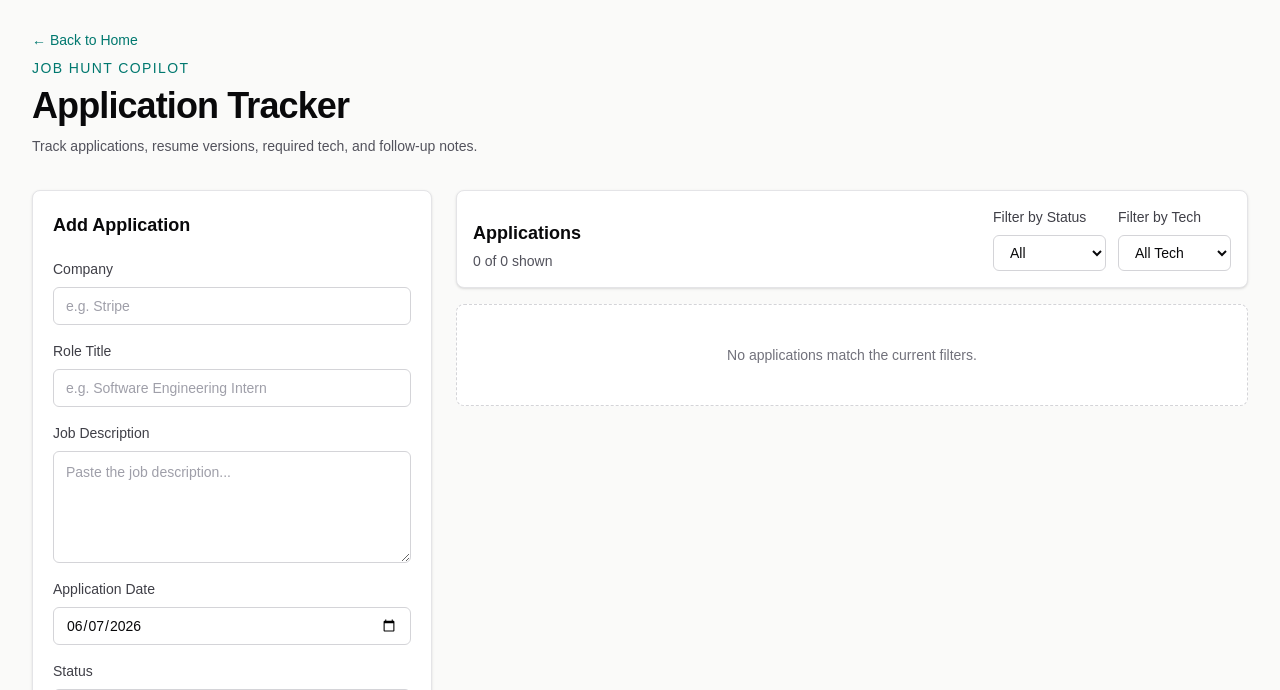
Test case: Application Tracker › creates an application
This screenshot has width=1280, height=690.
Expected: the text "0 of 0 shown" is shown, [473,253,552,269]
Type "OpenAI" into the field labelled "Company" at (232, 306), box [53,287,411,325]
Type "Software Engineering Intern" into the field labelled "Role Title" at (232, 388), box [53,369,411,407]
(page scrolled)
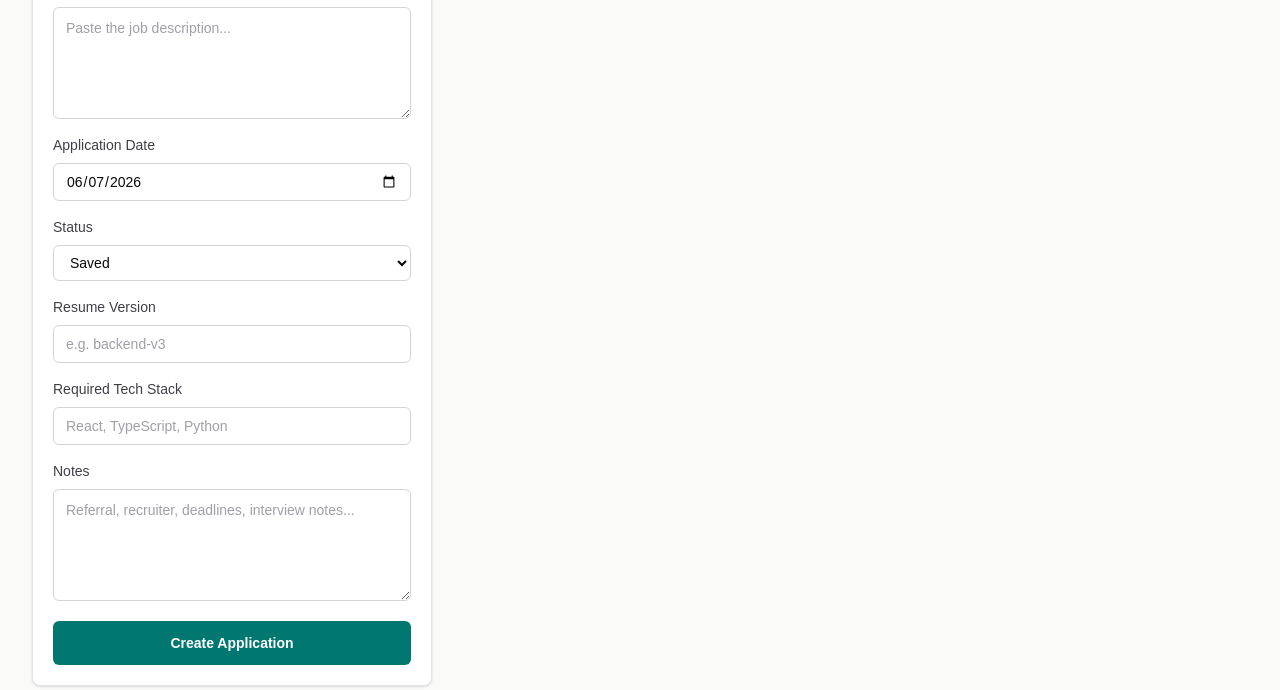
Type "React, TypeScript" into the field labelled "Required Tech Stack" at (232, 426), box [53,407,411,445]
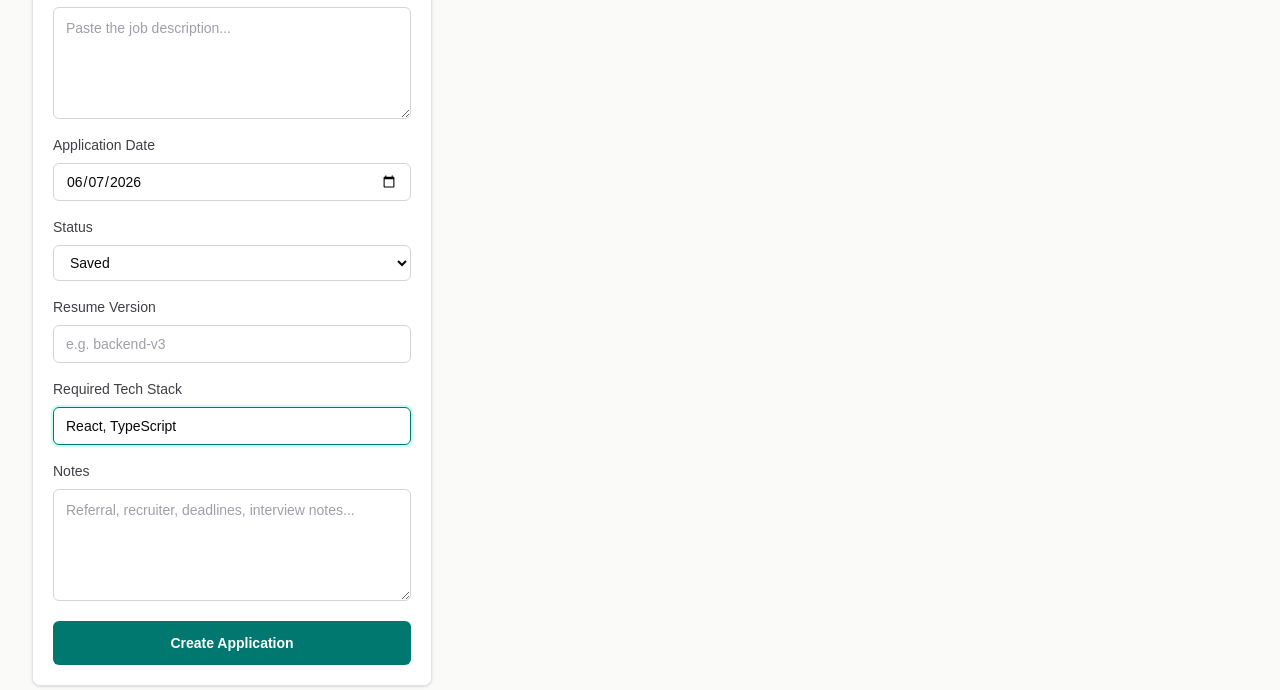
Select "Applied" in the dropdown labelled "Status" at (232, 263), box [53,245,411,281]
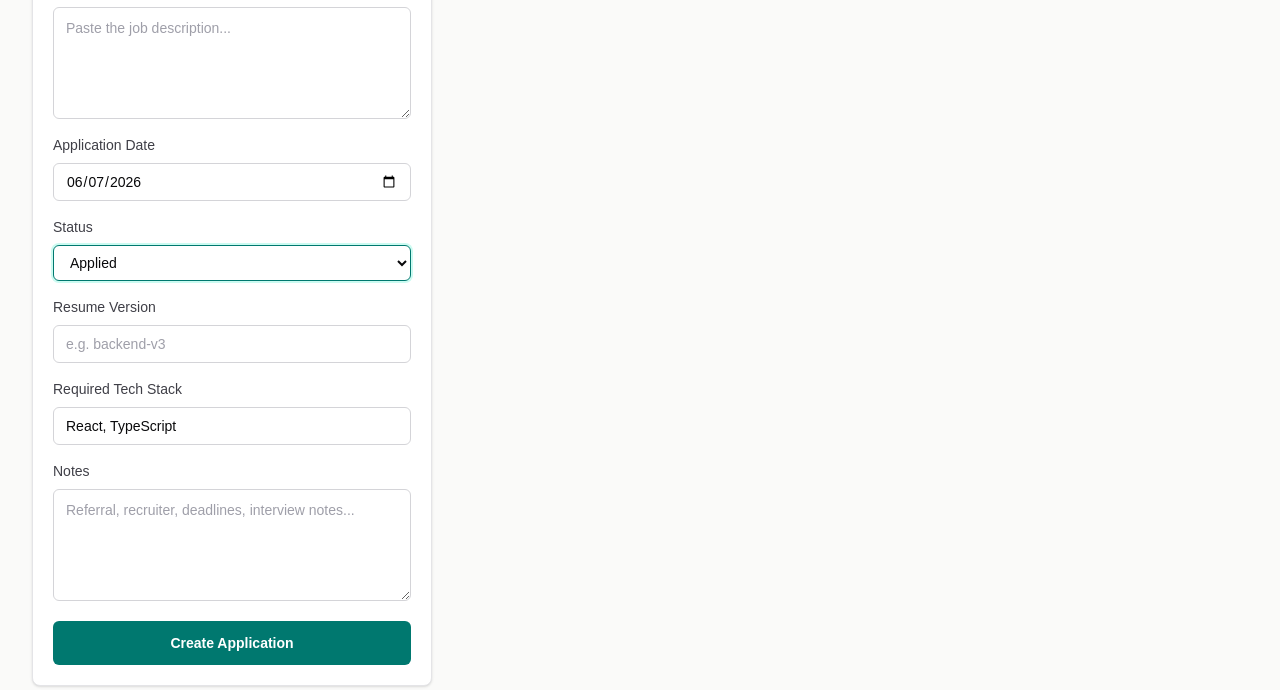
Type "software-v1" into the field labelled "Resume Version" at (232, 344), box [53,325,411,363]
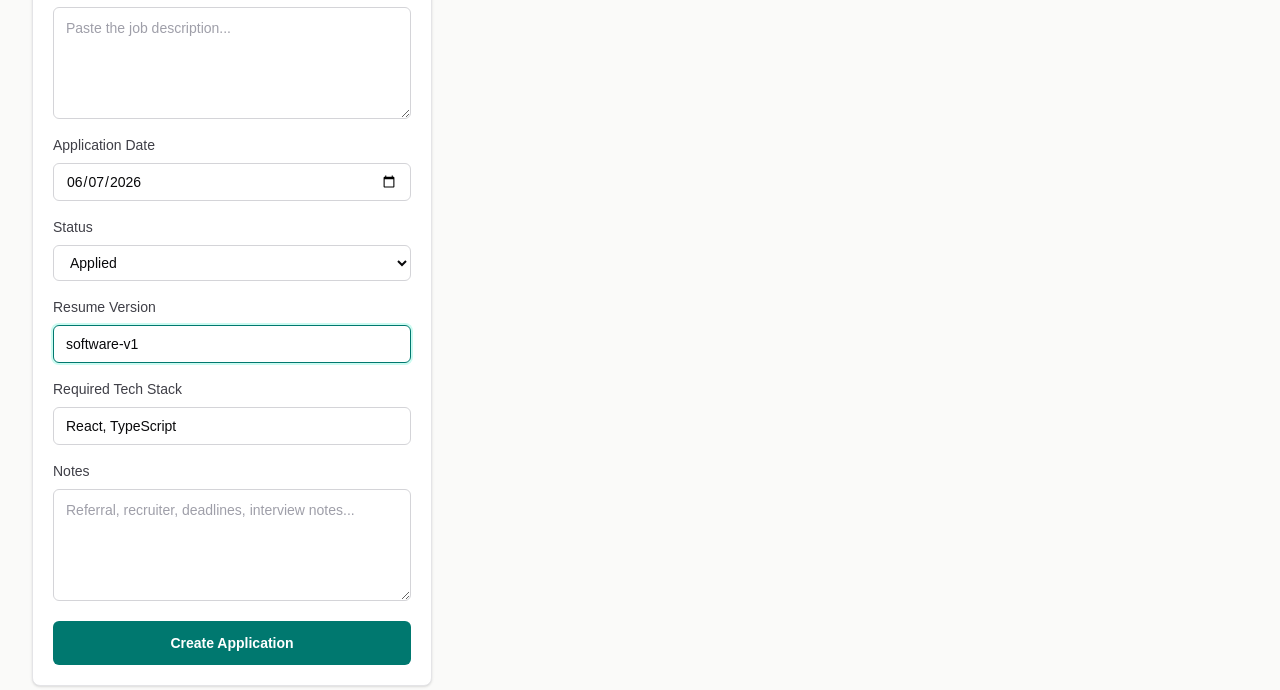
Type "Applied through company website." into the text box labelled "Notes" at (232, 545), box [53,489,411,601]
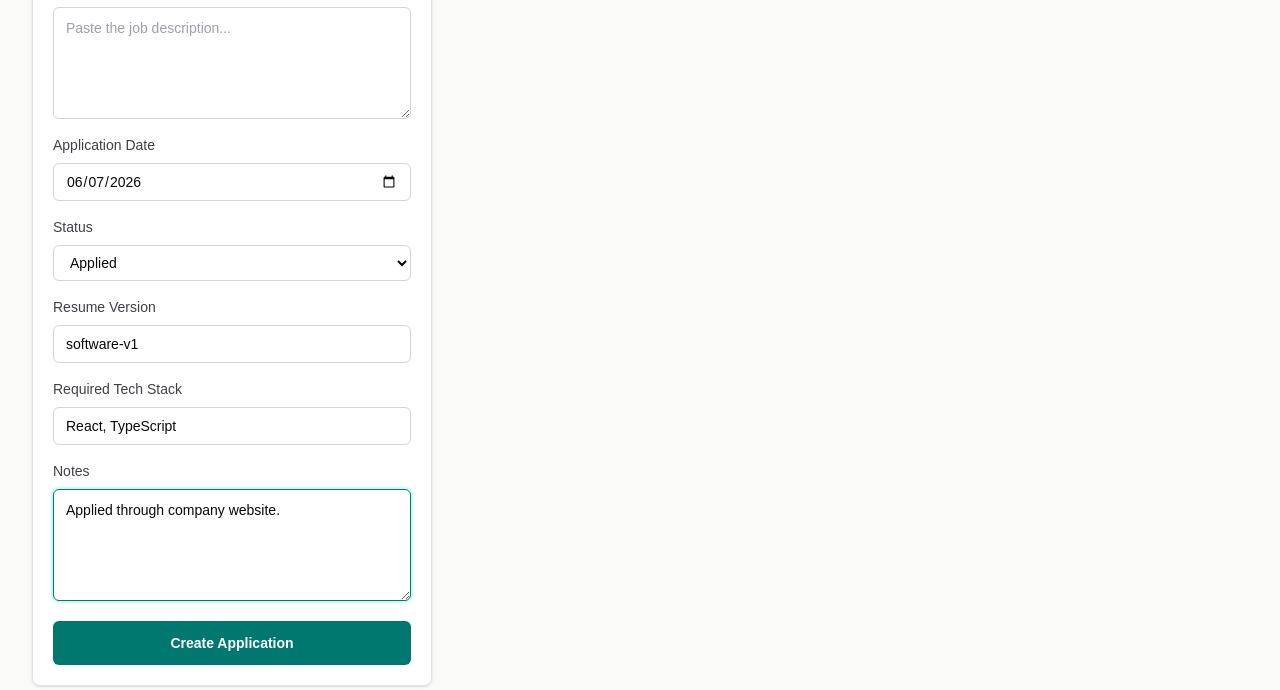
Click the button "Create Application" at (232, 643), box [53,621,411,665]
(page scrolled)
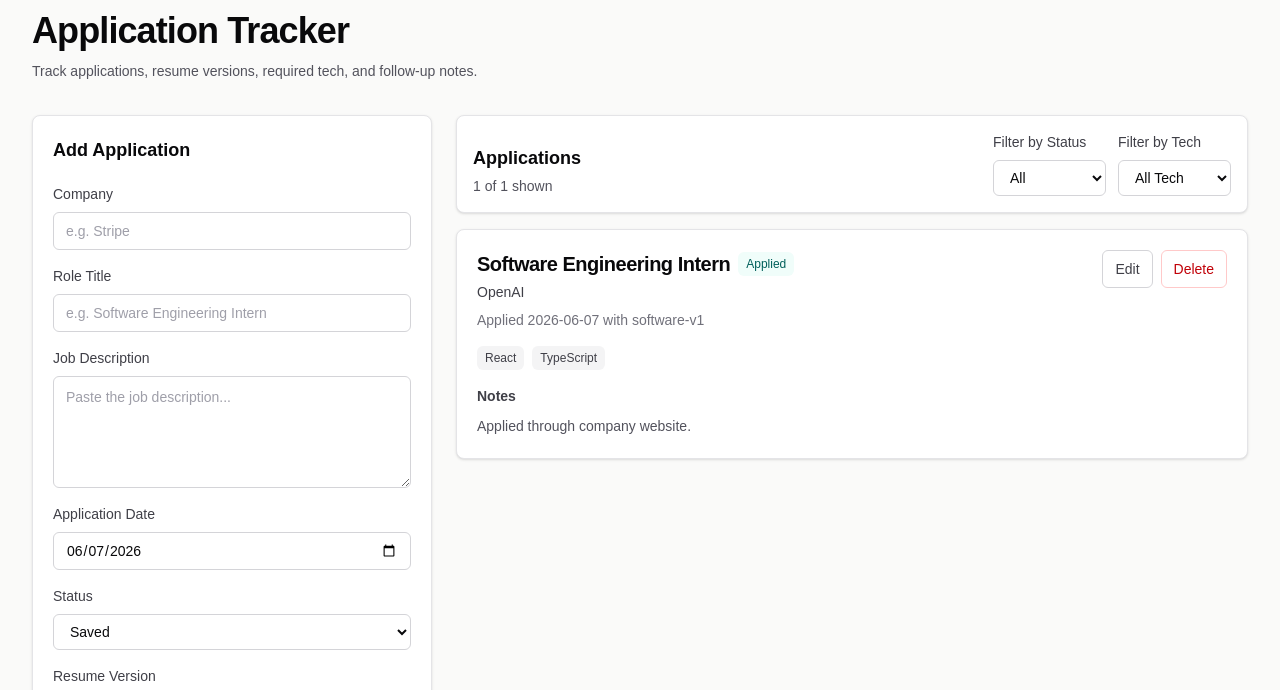
Result: the text "Software Engineering Intern" is shown at [477,253,730,275]
Result: the text "OpenAI" is shown at [477,284,524,300]
Result: the text "Applied" is shown at [738,252,794,276]
